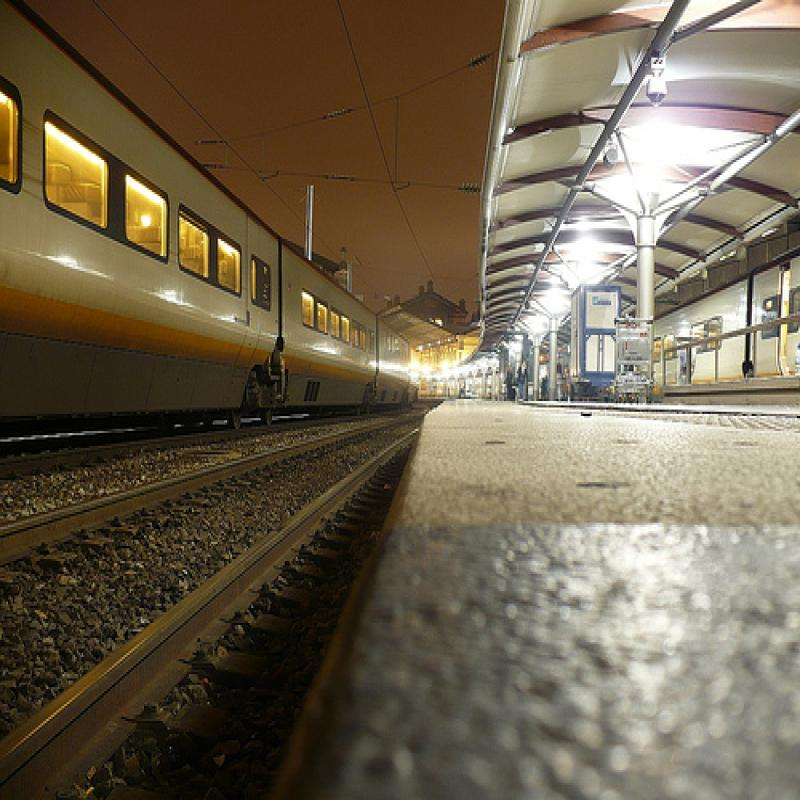train: (3, 3, 424, 441), (654, 255, 800, 393)
